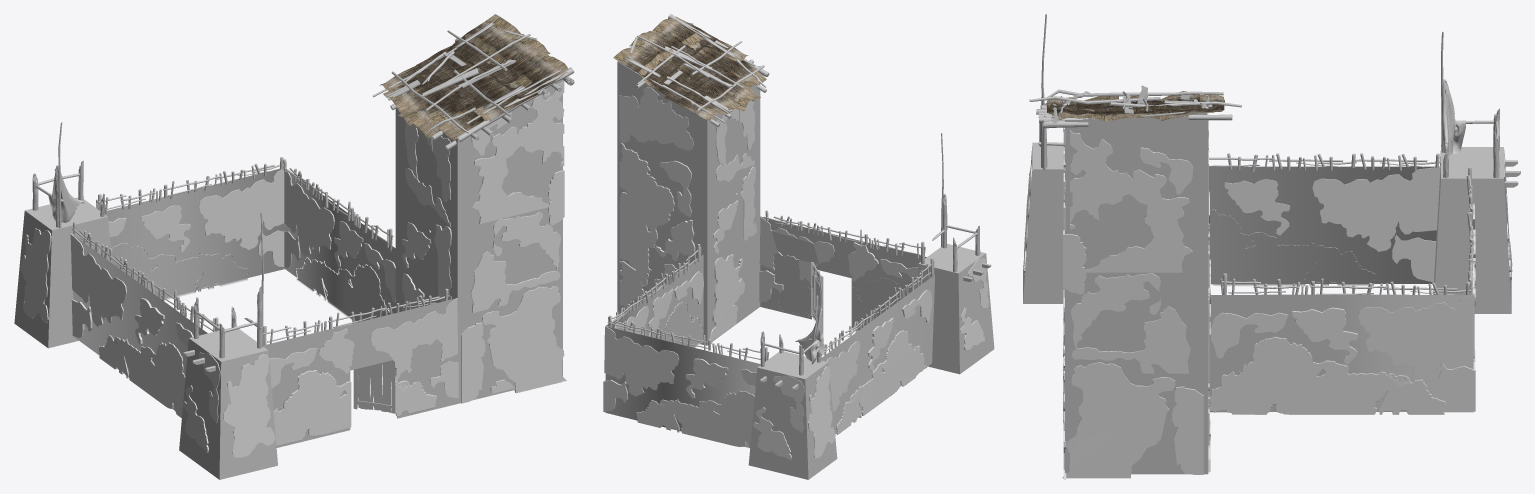
File: shamojianzhu.FBX
3 views of the same model, side by side, from view 1: azimuth 30°, elevation 25°; view 2: azimuth 150°, elevation 25°; view 3: azimuth 270°, elevation 25° (orthographic). The views are drawn at different scales.
Parts seen in each view (by area): view 1: qiang, jianzhu01, wuding02, mutou, wuding01, wujian02; view 2: qiang, jianzhu01, wuding02, mutou, wuding01, wujian02; view 3: qiang, jianzhu01, mutou, wuding01, wuding02, wujian02.
Part boxes in pixels (bbox=[...]): qiang: bbox=[14, 79, 562, 479]; jianzhu01: bbox=[20, 75, 566, 457]; wuding02: bbox=[379, 14, 568, 140]; mutou: bbox=[32, 122, 448, 413]; wuding01: bbox=[373, 22, 574, 150]; wujian02: bbox=[48, 165, 82, 222]; qiang: bbox=[605, 61, 994, 479]; jianzhu01: bbox=[603, 72, 988, 459]; wuding02: bbox=[613, 16, 766, 120]; mutou: bbox=[607, 133, 991, 390]; wuding01: bbox=[625, 14, 769, 127]; wujian02: bbox=[798, 308, 824, 364]; qiang: bbox=[1023, 112, 1511, 474]; jianzhu01: bbox=[1024, 112, 1512, 479]; mutou: bbox=[1038, 14, 1520, 294]; wuding01: bbox=[1029, 85, 1241, 128]; wuding02: bbox=[1046, 91, 1224, 121]; wujian02: bbox=[1441, 79, 1466, 156].
Size of the model in its own units: 793 by 647 by 787.
